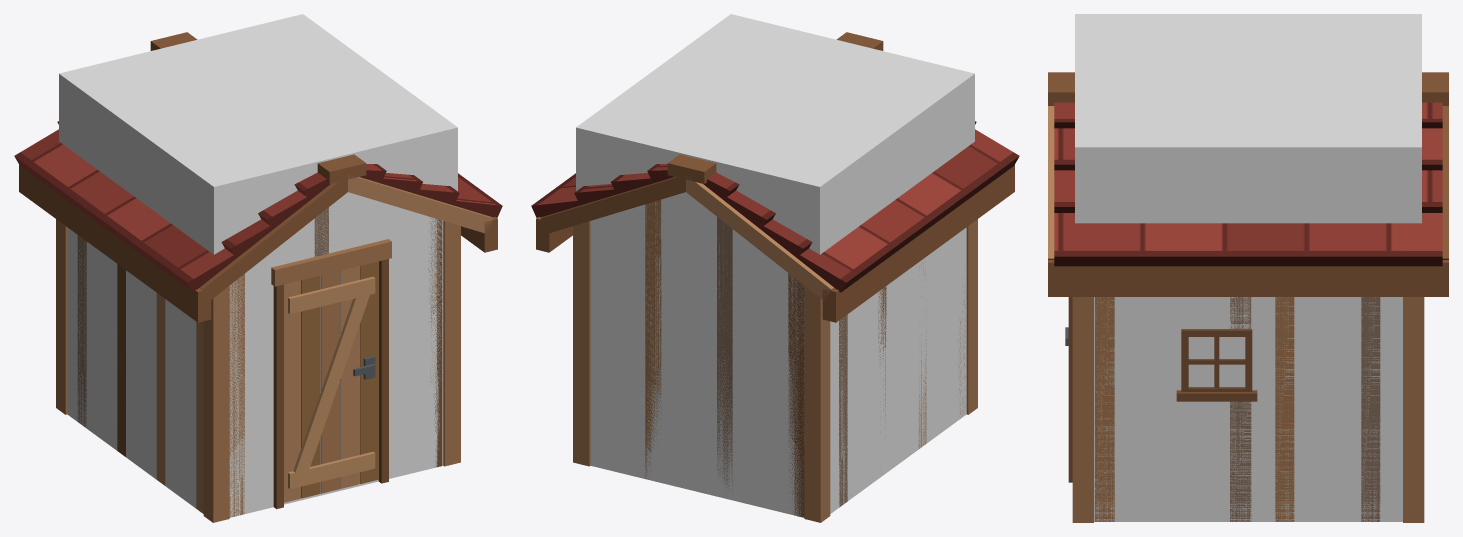
The model's file is FMS_Shed.fbx.
3 renders of one model, left to right at view 1: azimuth 30°, elevation 25°; view 2: azimuth 150°, elevation 25°; view 3: azimuth 270°, elevation 25°, orthographic. The views are drawn at different scales.
Visible parts, largest first — view 1: FMS_Shed_Col, FMS_Shed_LOD0, FMS_Shed_Door; view 2: FMS_Shed_Col, FMS_Shed_LOD0; view 3: FMS_Shed_Col, FMS_Shed_LOD0.
Boxes of the visible parts, x1=… form: FMS_Shed_Col: x1=59, y1=14, x2=457, y2=517; FMS_Shed_LOD0: x1=14, y1=32, x2=502, y2=522; FMS_Shed_Door: x1=284, y1=261, x2=378, y2=502; FMS_Shed_Col: x1=576, y1=14, x2=974, y2=517; FMS_Shed_LOD0: x1=531, y1=32, x2=1019, y2=522; FMS_Shed_Col: x1=1075, y1=14, x2=1421, y2=521; FMS_Shed_LOD0: x1=1048, y1=72, x2=1448, y2=522.
Size of what is drawn, in the model's own units: 2.58 by 2.62 by 2.54.
1 material, 1 textured.
